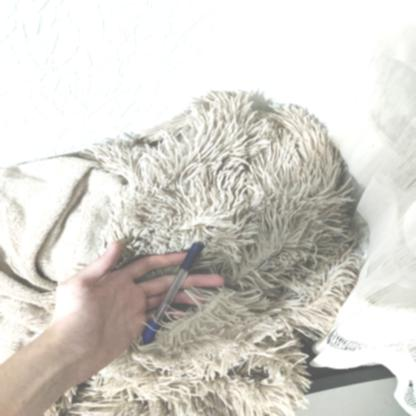pen: (128, 229, 230, 334)
